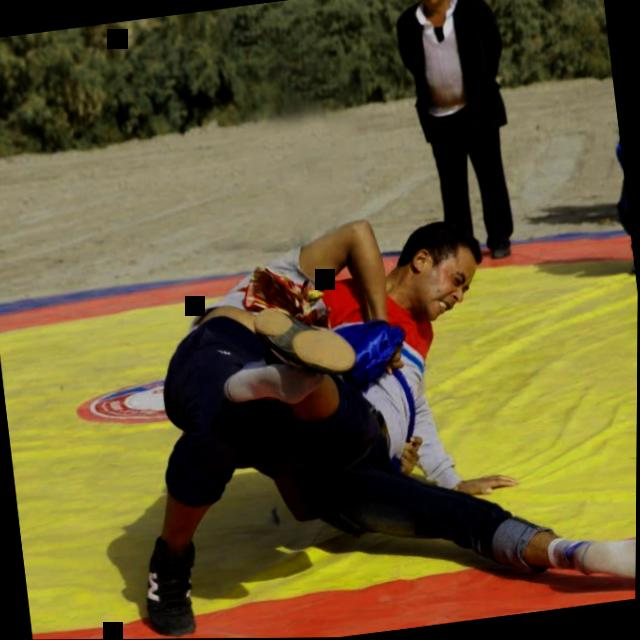Fall-Detected: (268, 219, 526, 519)
